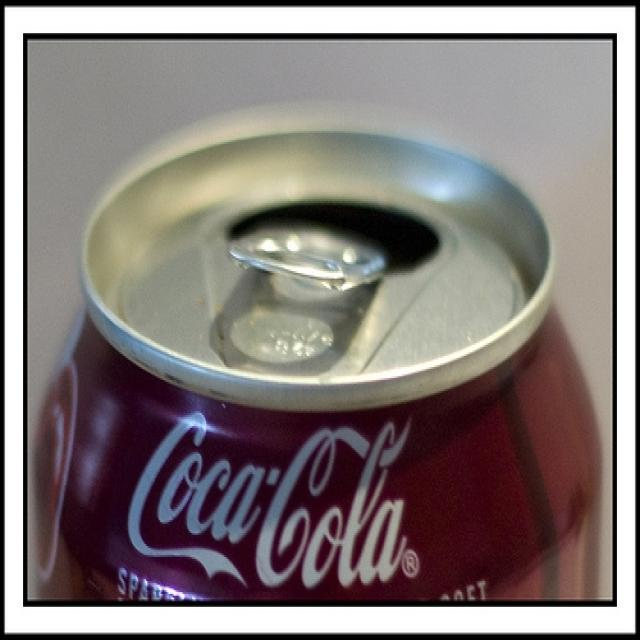cocacola: (120, 405, 425, 602)
